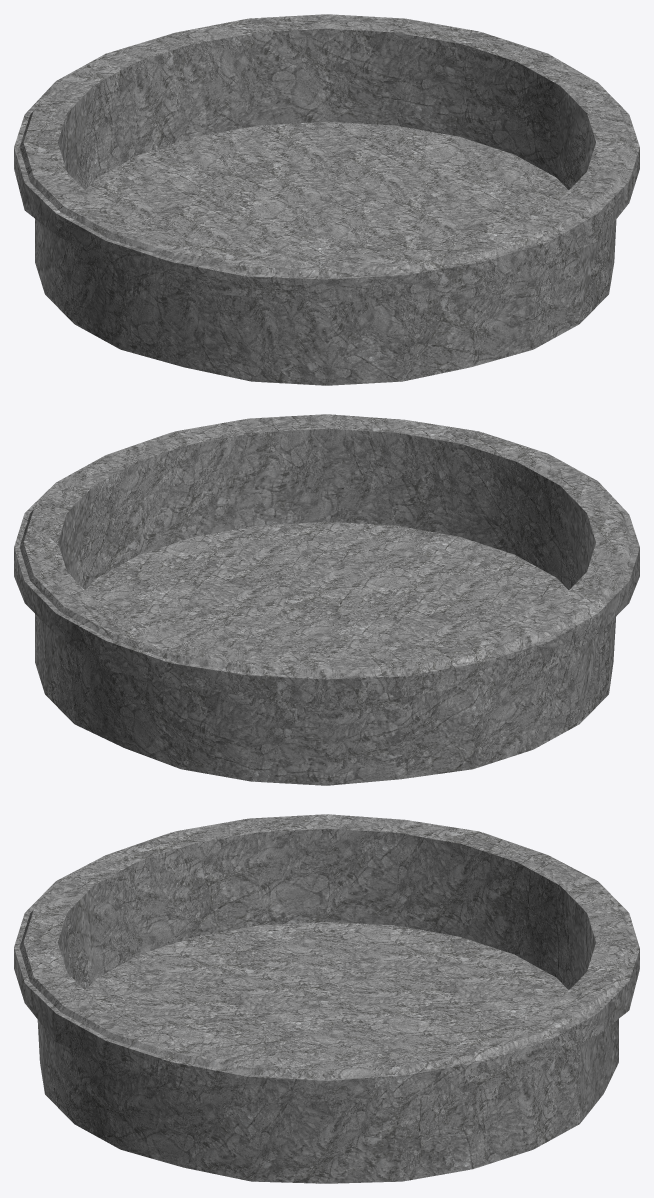
File: materials_3_fountain_1.fbx
3 views of the same model, one above another, from view 1: azimuth 30°, elevation 25°; view 2: azimuth 150°, elevation 25°; view 3: azimuth 270°, elevation 25° (orthographic).
Visible parts, largest first — view 1: materials_3_fountain_1; view 2: materials_3_fountain_1; view 3: materials_3_fountain_1.
Boxes of the visible parts, bbox=[...] form: materials_3_fountain_1: bbox=[14, 14, 639, 385]; materials_3_fountain_1: bbox=[14, 414, 639, 785]; materials_3_fountain_1: bbox=[14, 814, 639, 1183].
Bounding box in the file's own units: 533 × 113 × 533.
